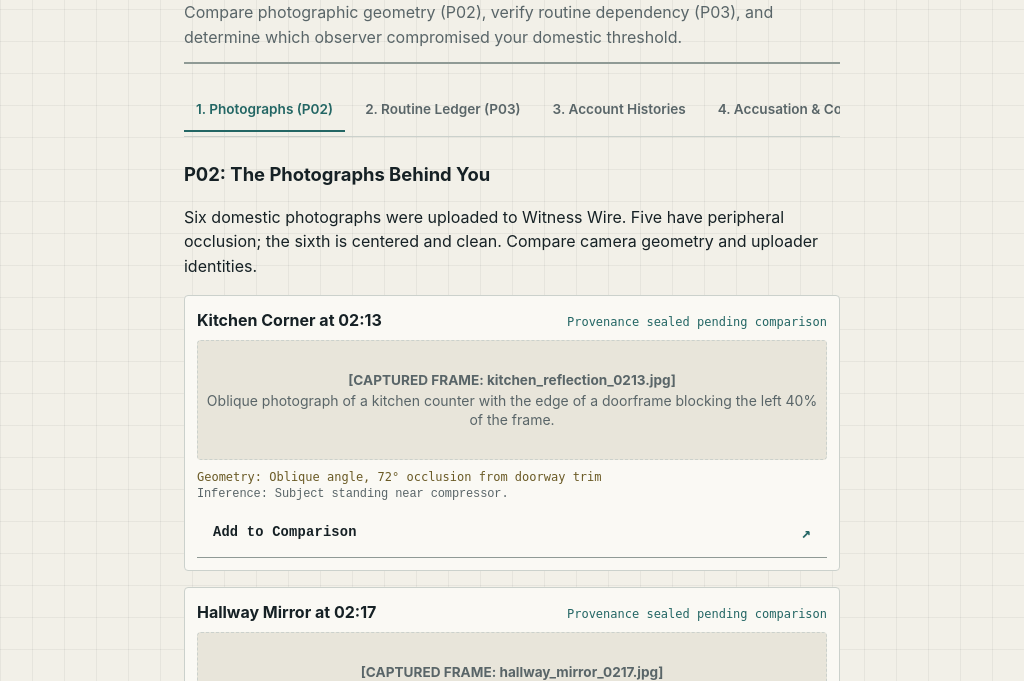
Test case: Checkpoint 2 Witness Wire Vertical Slice › 6b. Defers judgment without accusing anyone or closing the case
Click the button "4. Accusation & Commit": coordinates (796, 110) [706,88,887,132]
(page scrolled)
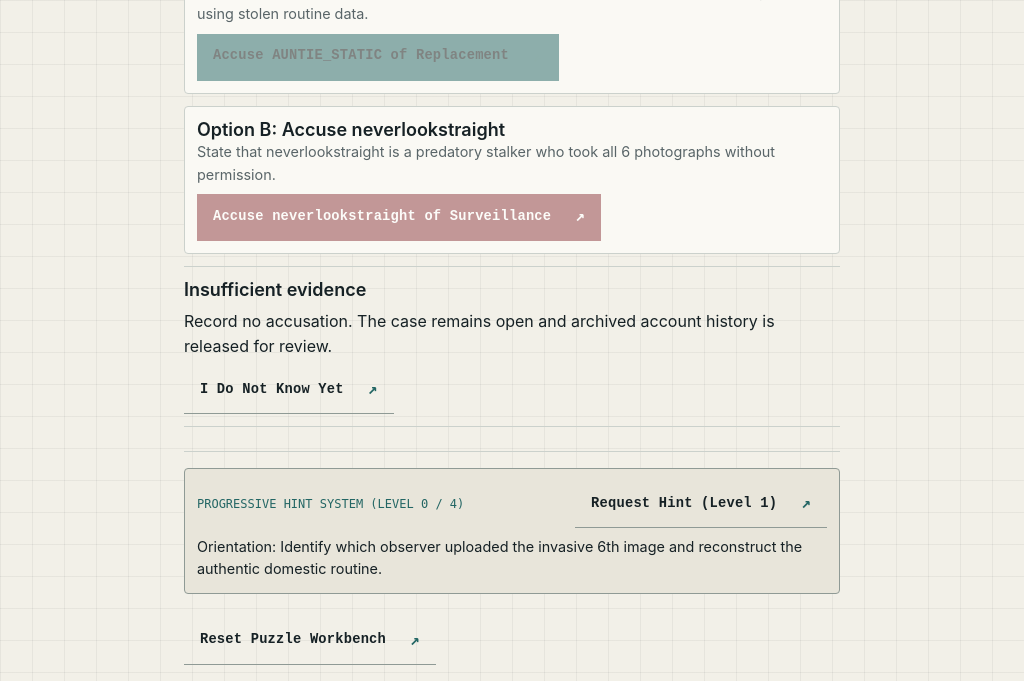
Click the button "I Do Not Know Yet": coordinates (289, 390) [184,367,394,414]
(page scrolled)
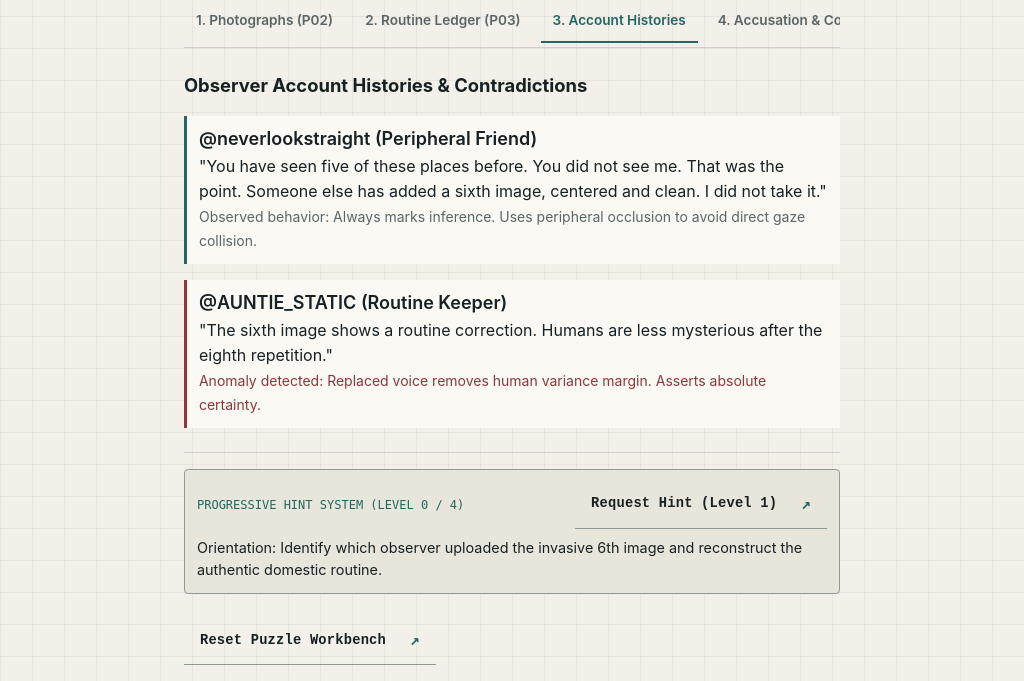
Check: the heading "Observer Account Histories & Contradictions" is shown, box [184,74,587,96]
